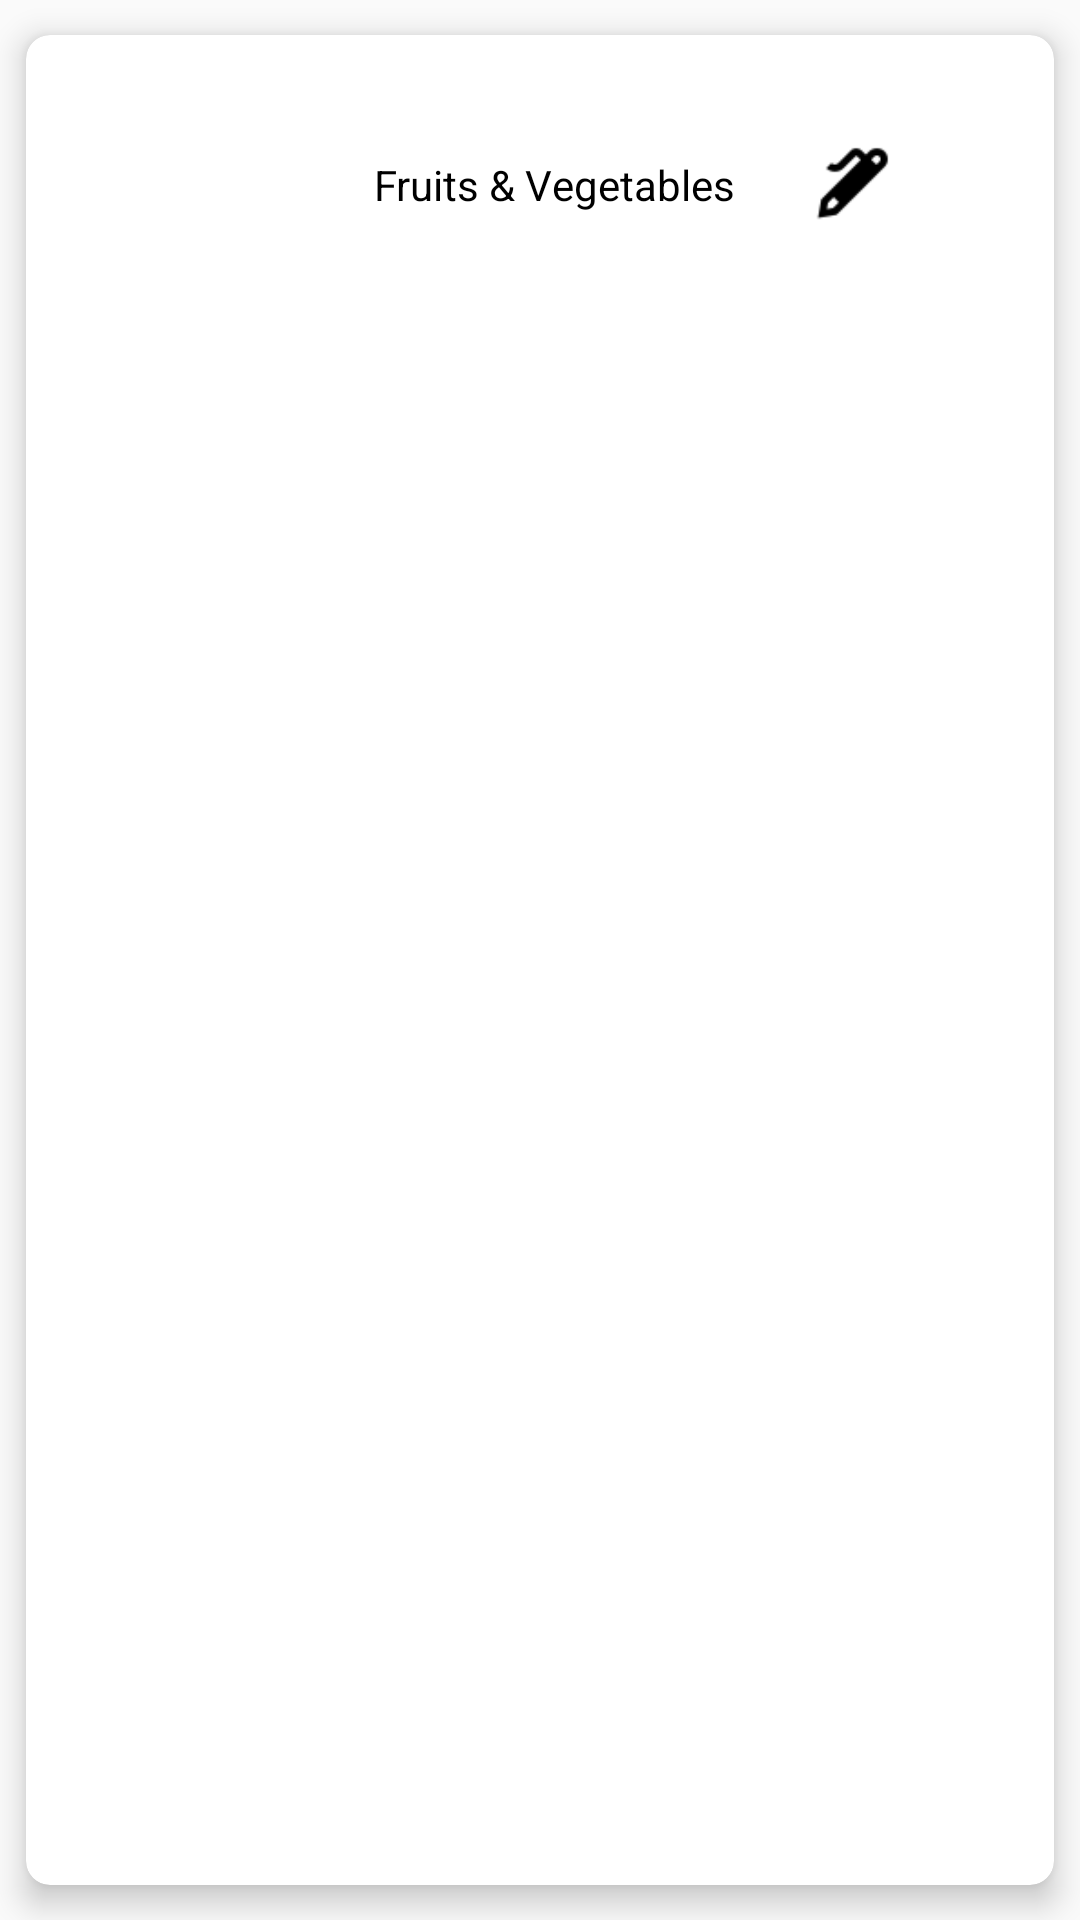

Icons on this 1080*1920 Android screen, each with its box as (x1, y1, x2, y2):
edit: (817, 148, 888, 219)
